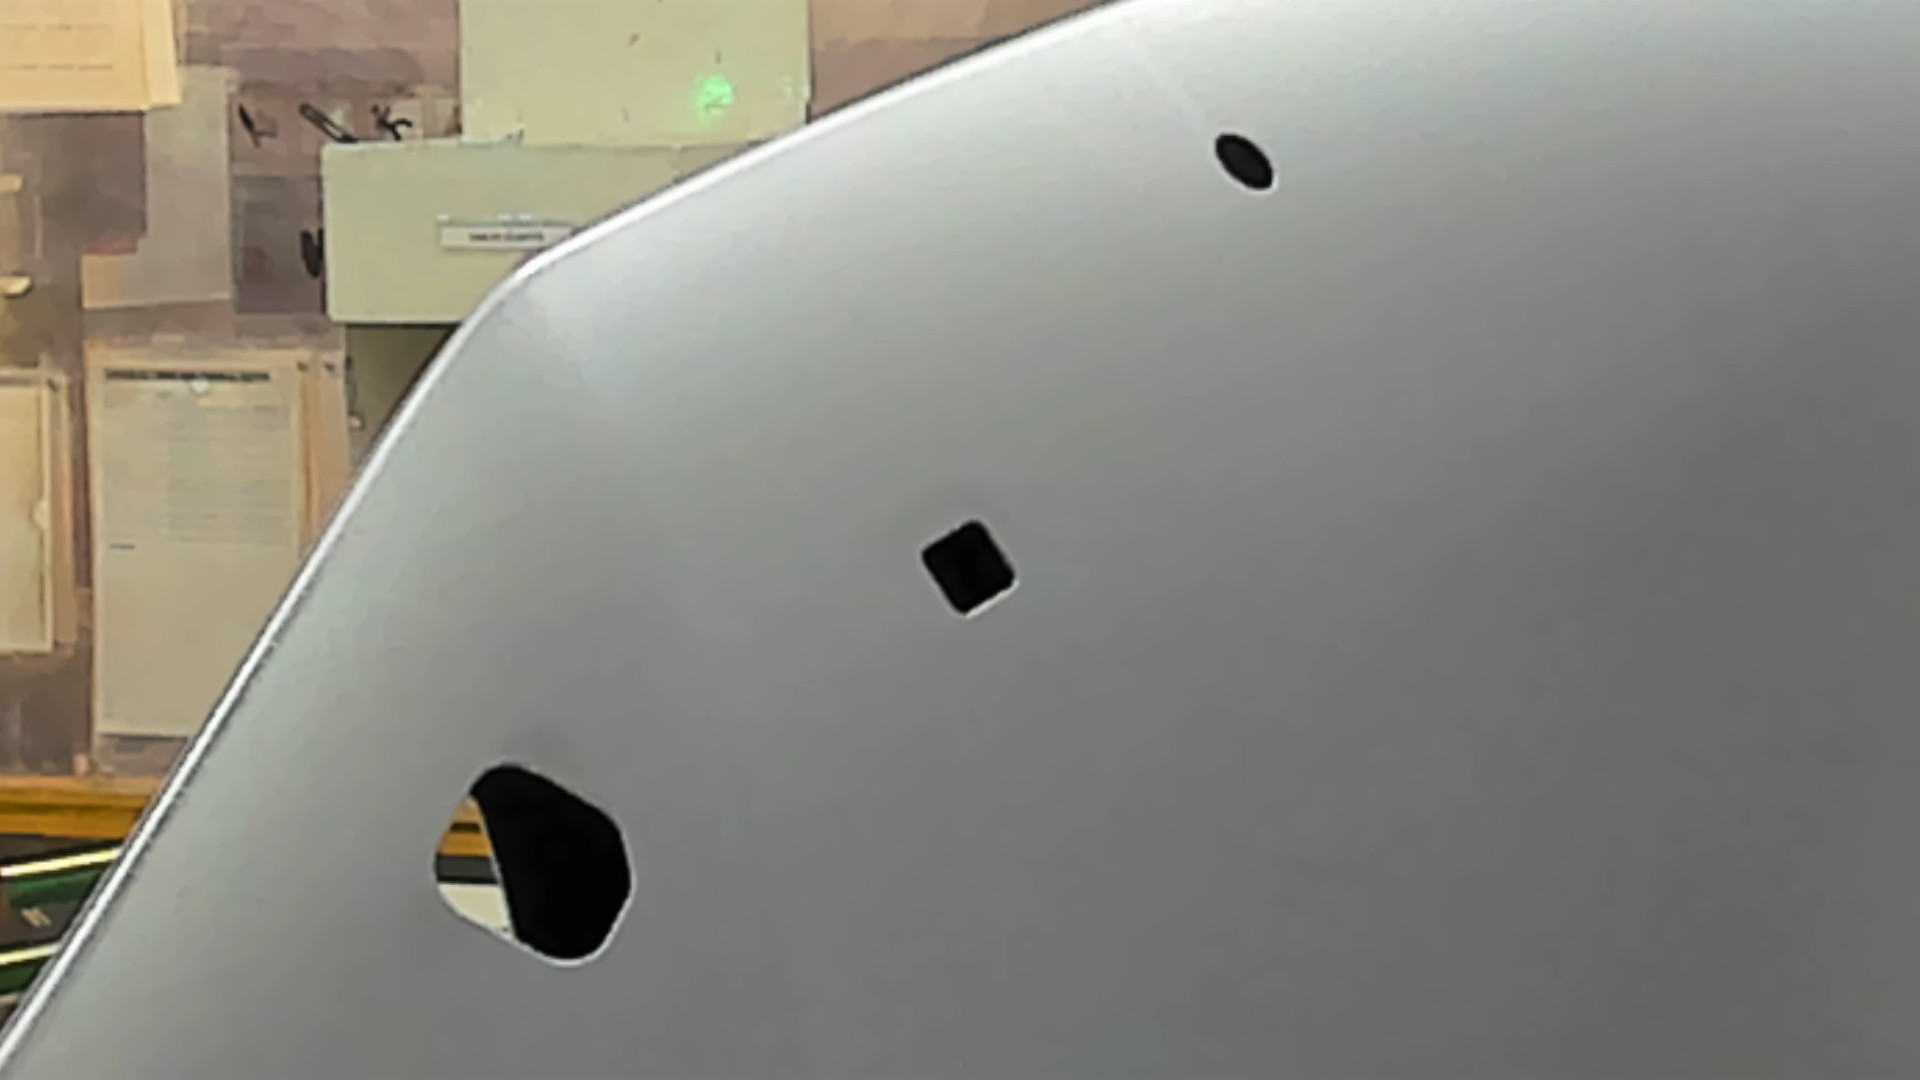chico: (1207, 123, 1286, 200)
grande: (410, 750, 644, 982)
mediano: (907, 512, 1033, 628)
